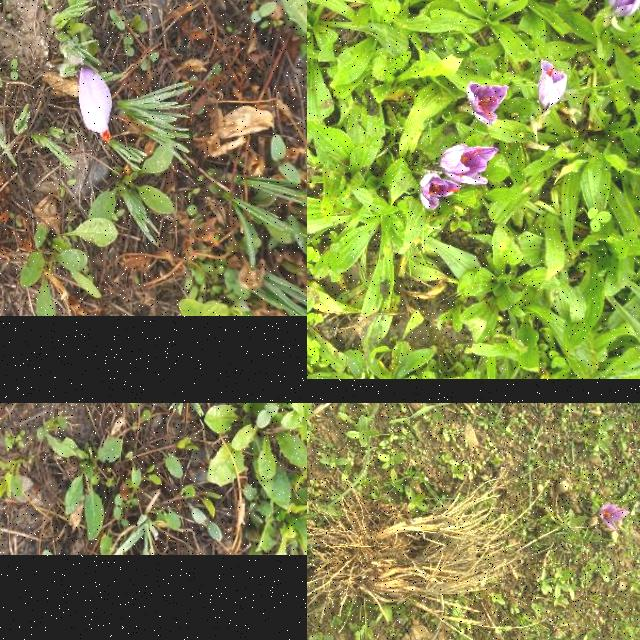flower: (438, 144, 500, 186), (79, 66, 113, 140), (466, 81, 512, 127), (420, 173, 464, 211), (538, 58, 568, 112), (598, 502, 630, 532), (607, 0, 640, 16)
